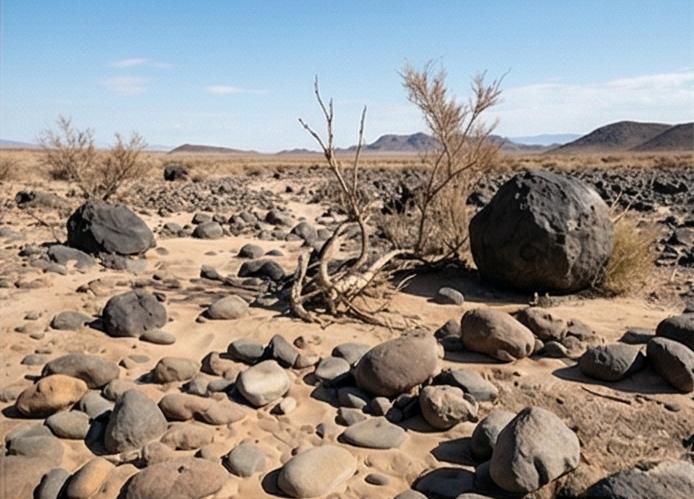rocks: (469, 169, 613, 294), (486, 404, 580, 493), (353, 327, 439, 396), (65, 197, 156, 257), (100, 387, 166, 455), (122, 455, 227, 497), (582, 457, 693, 496), (276, 444, 356, 498), (460, 306, 536, 361), (99, 286, 166, 336), (162, 391, 249, 425), (39, 350, 116, 387), (233, 359, 291, 408), (418, 384, 478, 429), (644, 336, 693, 391), (576, 341, 643, 381), (60, 456, 115, 497), (339, 415, 406, 447), (268, 333, 320, 369), (156, 420, 216, 451), (5, 423, 60, 455), (222, 441, 267, 476), (146, 355, 198, 383), (43, 408, 91, 438), (47, 243, 98, 270), (14, 188, 70, 210), (235, 257, 286, 281), (98, 250, 147, 273), (203, 294, 248, 319), (78, 389, 114, 419), (313, 355, 352, 382), (227, 336, 267, 362), (203, 351, 242, 376), (141, 439, 178, 464), (50, 308, 92, 330), (560, 318, 597, 341), (184, 375, 221, 396), (83, 276, 121, 296), (337, 387, 369, 409), (137, 328, 175, 345), (290, 221, 319, 242), (190, 220, 223, 238), (434, 318, 460, 340), (12, 275, 51, 289), (652, 178, 685, 194), (434, 287, 463, 305), (540, 338, 569, 356), (668, 226, 694, 246), (620, 329, 653, 344), (234, 243, 264, 259), (366, 396, 390, 416), (263, 208, 291, 225), (162, 163, 187, 180), (209, 179, 237, 194), (274, 395, 296, 413), (17, 243, 47, 256), (0, 224, 23, 240), (198, 264, 222, 279), (19, 353, 49, 365), (237, 209, 256, 224), (162, 220, 182, 233), (124, 352, 150, 362), (22, 309, 43, 319), (262, 248, 283, 255), (154, 245, 168, 254)
